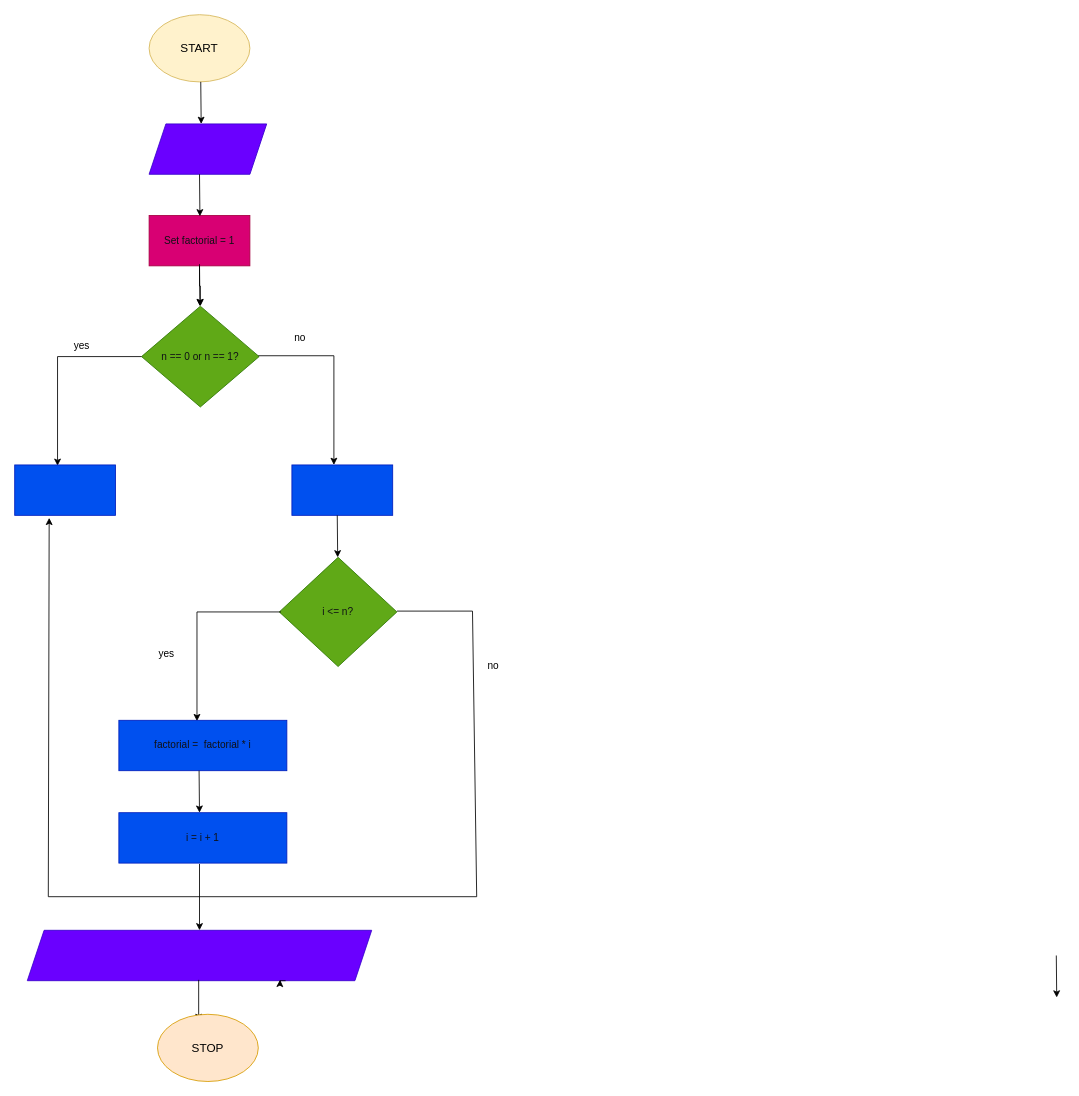
Some shapes in this 1079 by 1096 pixel diagram are drawn without their labels. The centre of each missing label's shape, as x and y in pixels:
factorial = 1: pixel 65 489
Input n from user: pixel 207 148
Print "Factorial of n is factorial": pixel 199 955
Set i = 2: pixel 342 489
